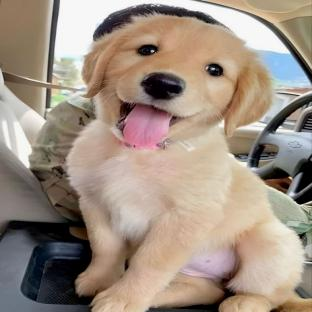Animal: (66, 9, 311, 312)
